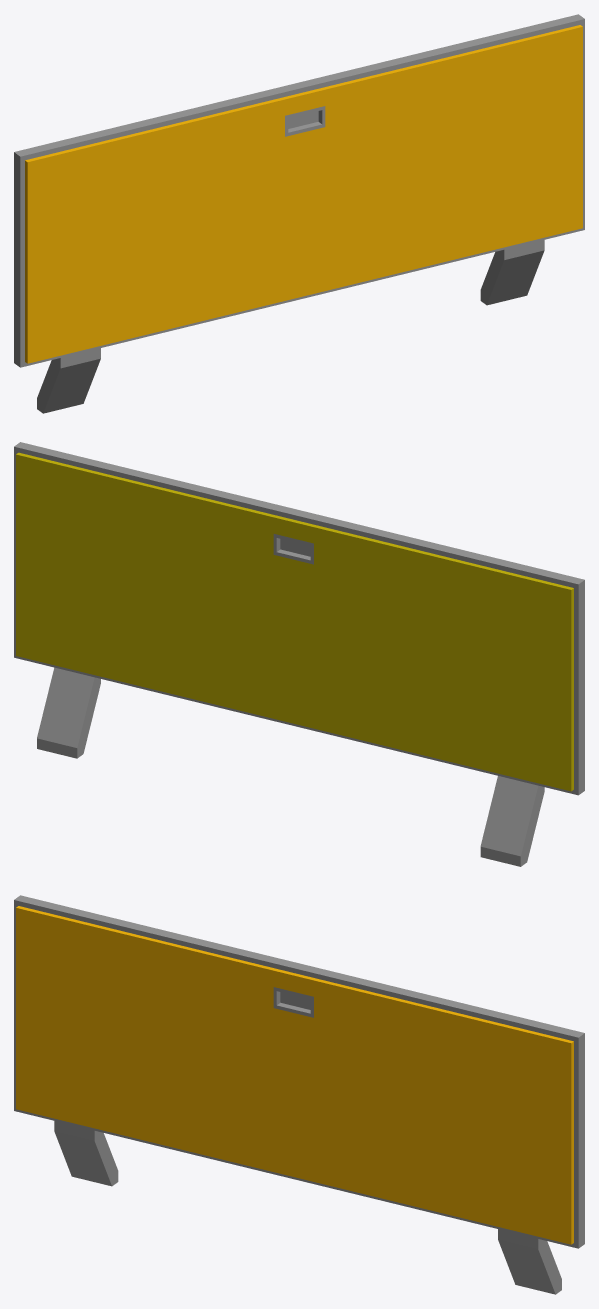
File: door_manual_flush_outswing_7x3_dynamic.dae
3 views of the same model, one above another, from view 1: azimuth 30°, elevation 25°; view 2: azimuth 150°, elevation 25°; view 3: azimuth 330°, elevation 25° (orthographic).
Visible parts, largest first — view 1: Cube; view 2: Cube; view 3: Cube.
Boxes of the visible parts, x1,y1,x2,y2 form: Cube: (14,14,584,413); Cube: (14,442,584,866); Cube: (14,895,584,1294).
Size of the model in its own units: 1.75 by 0.1421 by 0.8281.
